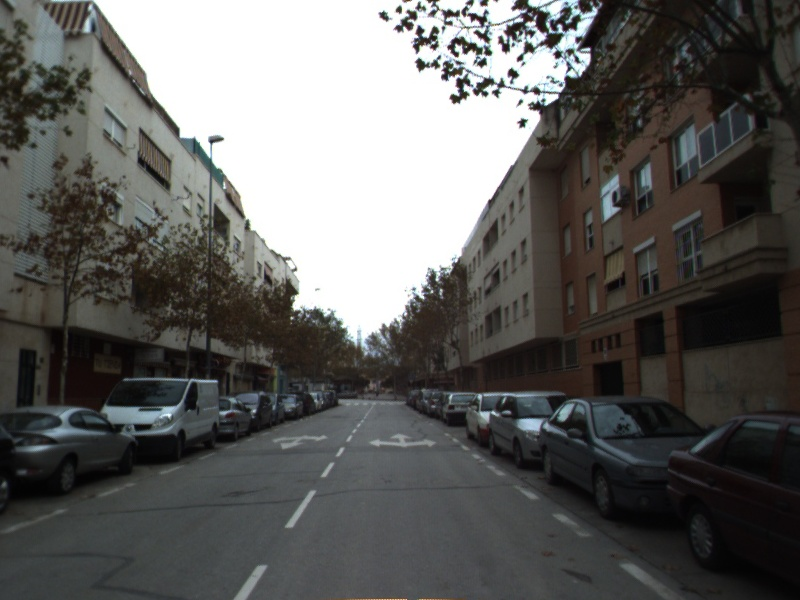STRAIGHT_LEFT_RIGHT: (367, 431, 439, 449)
